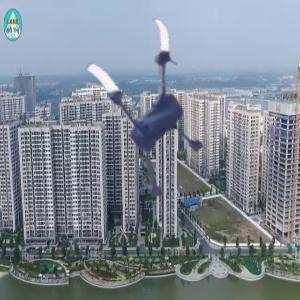drone: (55, 20, 236, 201)
